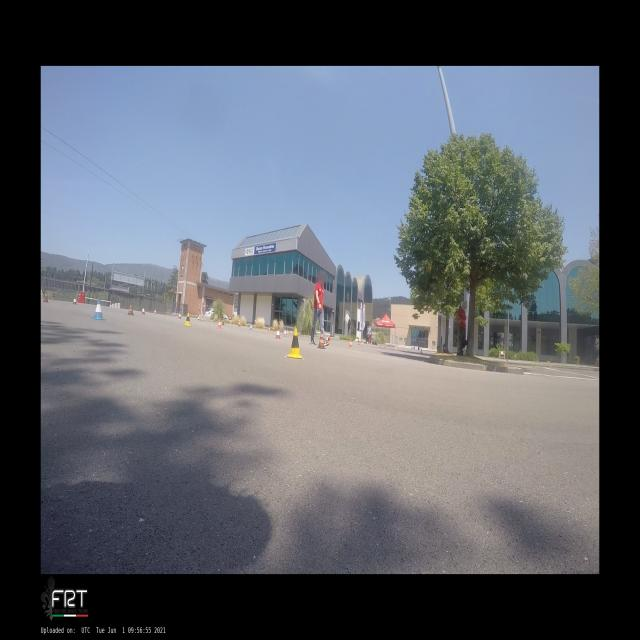blue_cone: (91, 299, 105, 320), (283, 328, 287, 337), (249, 324, 253, 330)
large_orange_cone: (317, 330, 326, 349), (238, 318, 240, 327)
orange_cone: (275, 327, 281, 338), (217, 318, 222, 329), (72, 296, 78, 305), (348, 338, 353, 348), (141, 307, 145, 315), (178, 312, 182, 320), (200, 316, 204, 322), (361, 340, 364, 347), (197, 314, 200, 320), (286, 330, 289, 336), (154, 308, 156, 316), (268, 326, 270, 332), (394, 346, 396, 351), (290, 330, 292, 335), (328, 338, 330, 342), (327, 336, 328, 341), (384, 344, 385, 348)
unknown_cone: (127, 302, 134, 315), (42, 292, 49, 303), (358, 341, 360, 345), (421, 349, 422, 353), (403, 346, 404, 350)
yellow_cone: (287, 326, 302, 358), (184, 312, 191, 326)
